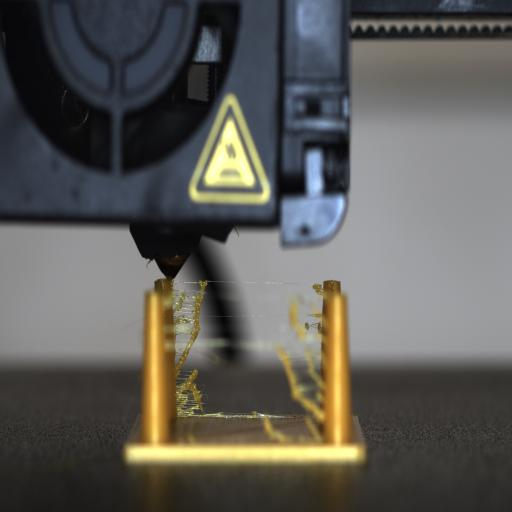stringing: (156, 278, 208, 419)
